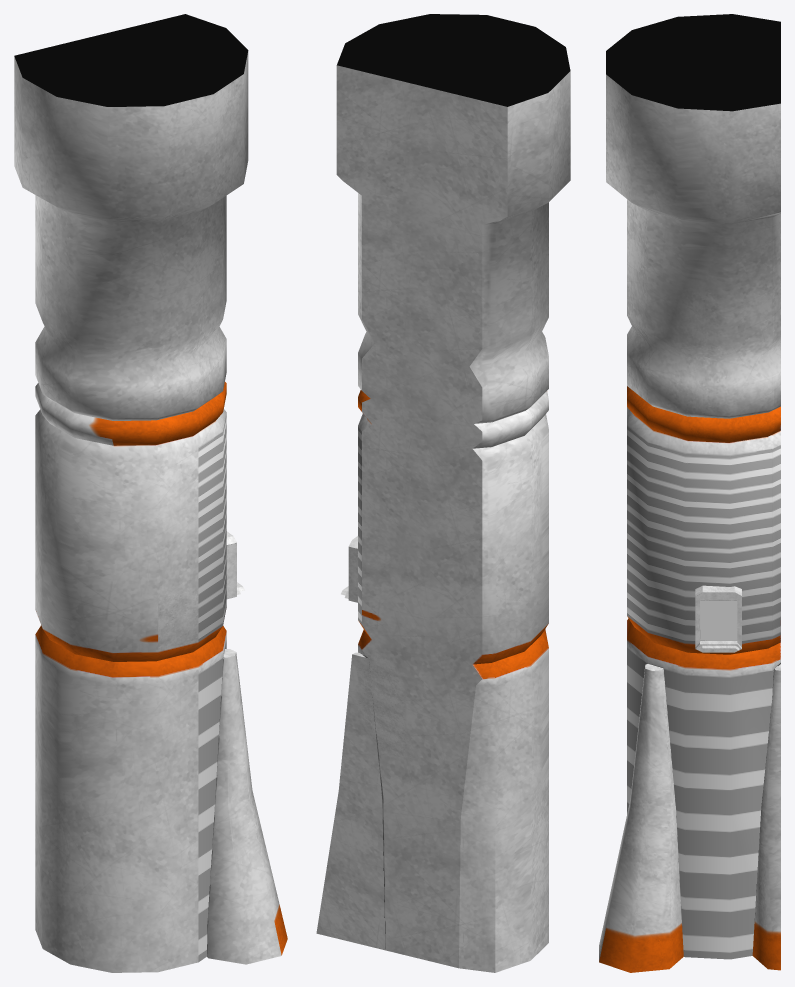
File: CutSpaceShip.fbx
3 renders of one model, left to right at view 1: azimuth 30°, elevation 25°; view 2: azimuth 150°, elevation 25°; view 3: azimuth 270°, elevation 25°, orthographic. The views are drawn at different scales.
Visible parts, largest first — view 1: CloseUpSpaceShip, SpaceDoor; view 2: CloseUpSpaceShip, SpaceDoor; view 3: CloseUpSpaceShip, SpaceDoor.
Boxes of the visible parts, bbox=[...] form: CloseUpSpaceShip: bbox=[14, 14, 287, 972]; SpaceDoor: bbox=[226, 531, 244, 599]; CloseUpSpaceShip: bbox=[316, 14, 570, 972]; SpaceDoor: bbox=[341, 536, 357, 602]; CloseUpSpaceShip: bbox=[599, 14, 780, 972]; SpaceDoor: bbox=[695, 585, 741, 652].
Size of the model in its own units: 255 by 1000 by 192.
Materials: 2 (2 with a texture image).
